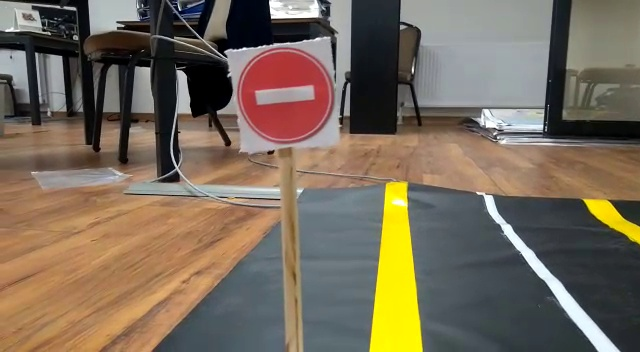girisi_olmayan_yol: (231, 45, 335, 141)
